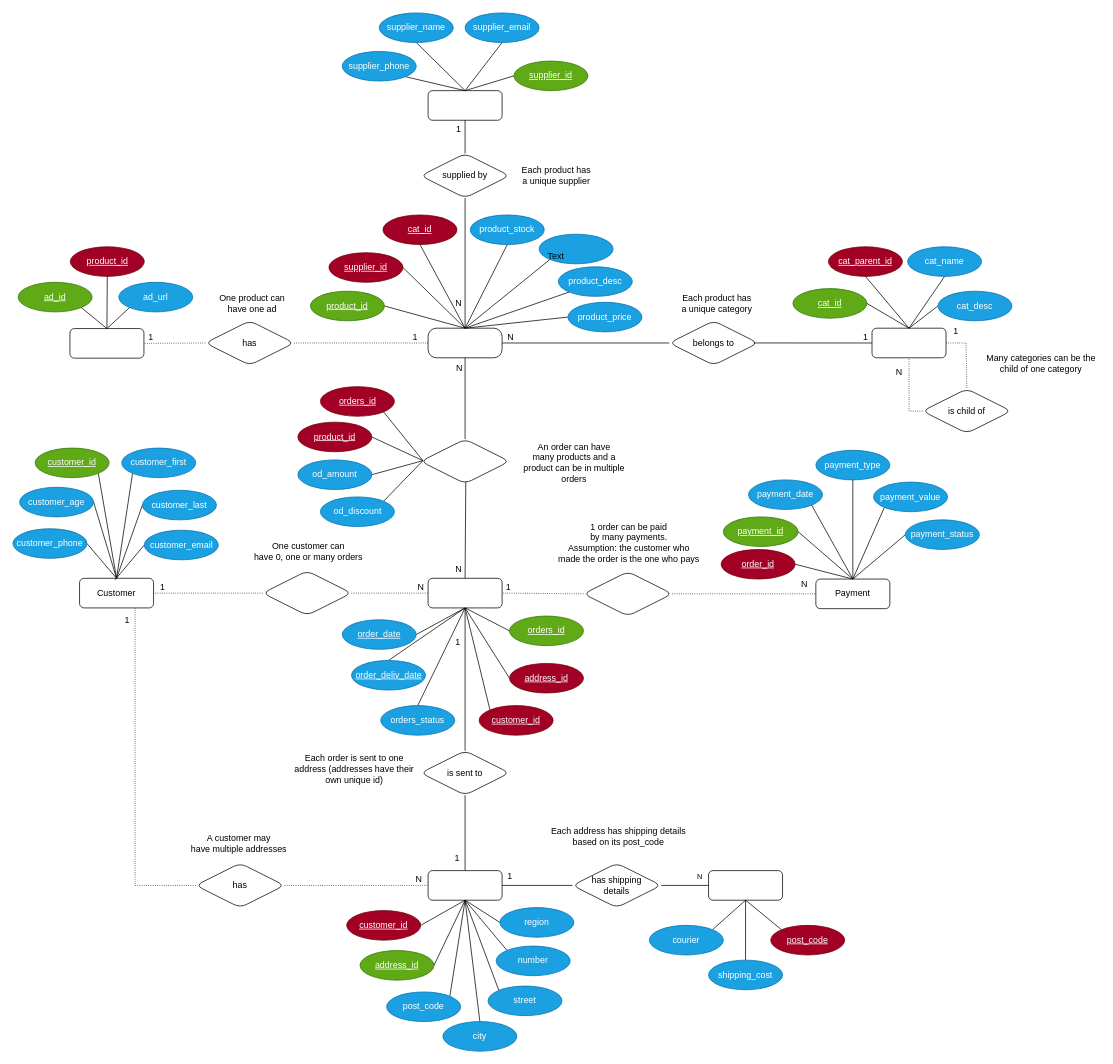
Image size: 1113x1064. Some labels were removed from this diagram. Here are the shapes that lost their labels. From the top down, the box of each, then its label:
(427, 90, 502, 120): Supplier
(538, 233, 613, 264): product_name
(69, 328, 144, 358): Ad
(427, 327, 502, 358): Product
(871, 327, 946, 358): Category
(420, 438, 509, 484): Order Details
(262, 570, 352, 615): generates
(427, 578, 502, 608): Orders
(583, 571, 672, 616): is paid by
(427, 870, 502, 900): Address
(708, 870, 783, 900): Shipping_Details
